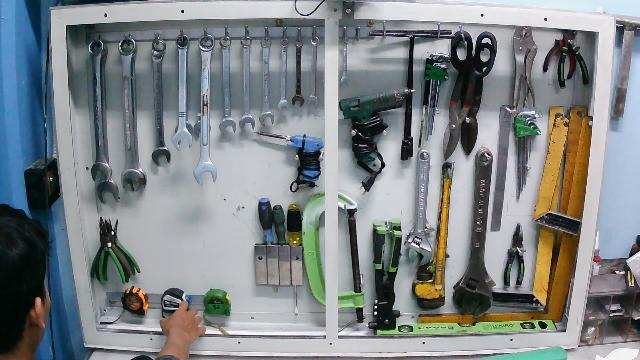meteran: (157, 281, 198, 331)
